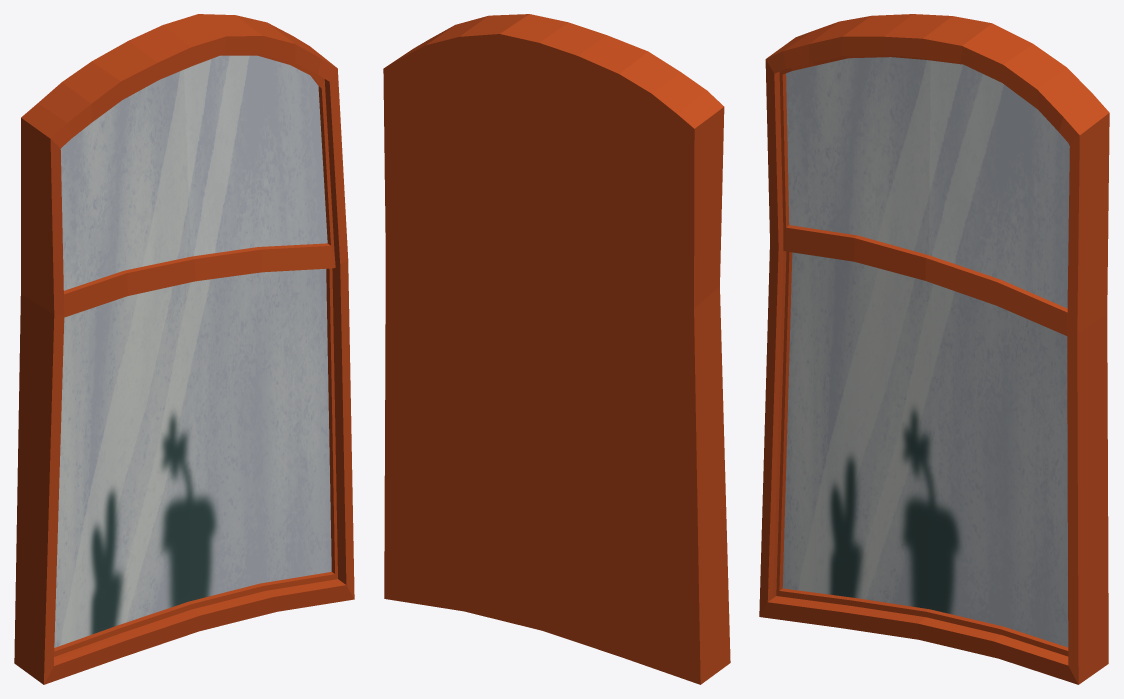
The model's file is Window26.fbx.
3 renders of one model, left to right at view 1: azimuth 30°, elevation 25°; view 2: azimuth 150°, elevation 25°; view 3: azimuth 330°, elevation 25°, orthographic. The views are drawn at different scales.
Visible parts, largest first — view 1: Cube.087; view 2: Cube.087; view 3: Cube.087.
Part boxes in pixels (left/top/right/bottom): Cube.087: left=14, top=14, right=354, bottom=684; Cube.087: left=383, top=14, right=730, bottom=684; Cube.087: left=759, top=14, right=1109, bottom=684.
Size of the model in its own units: 117 by 215 by 25.56.
